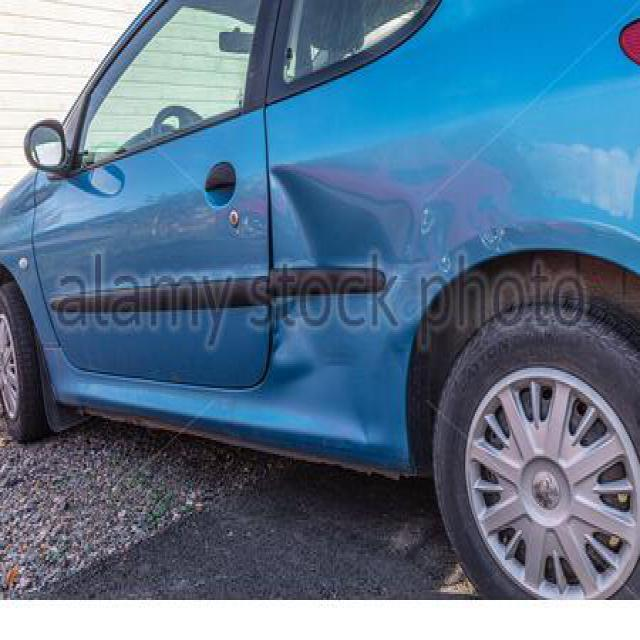doorouter-dent: (244, 144, 416, 464)
